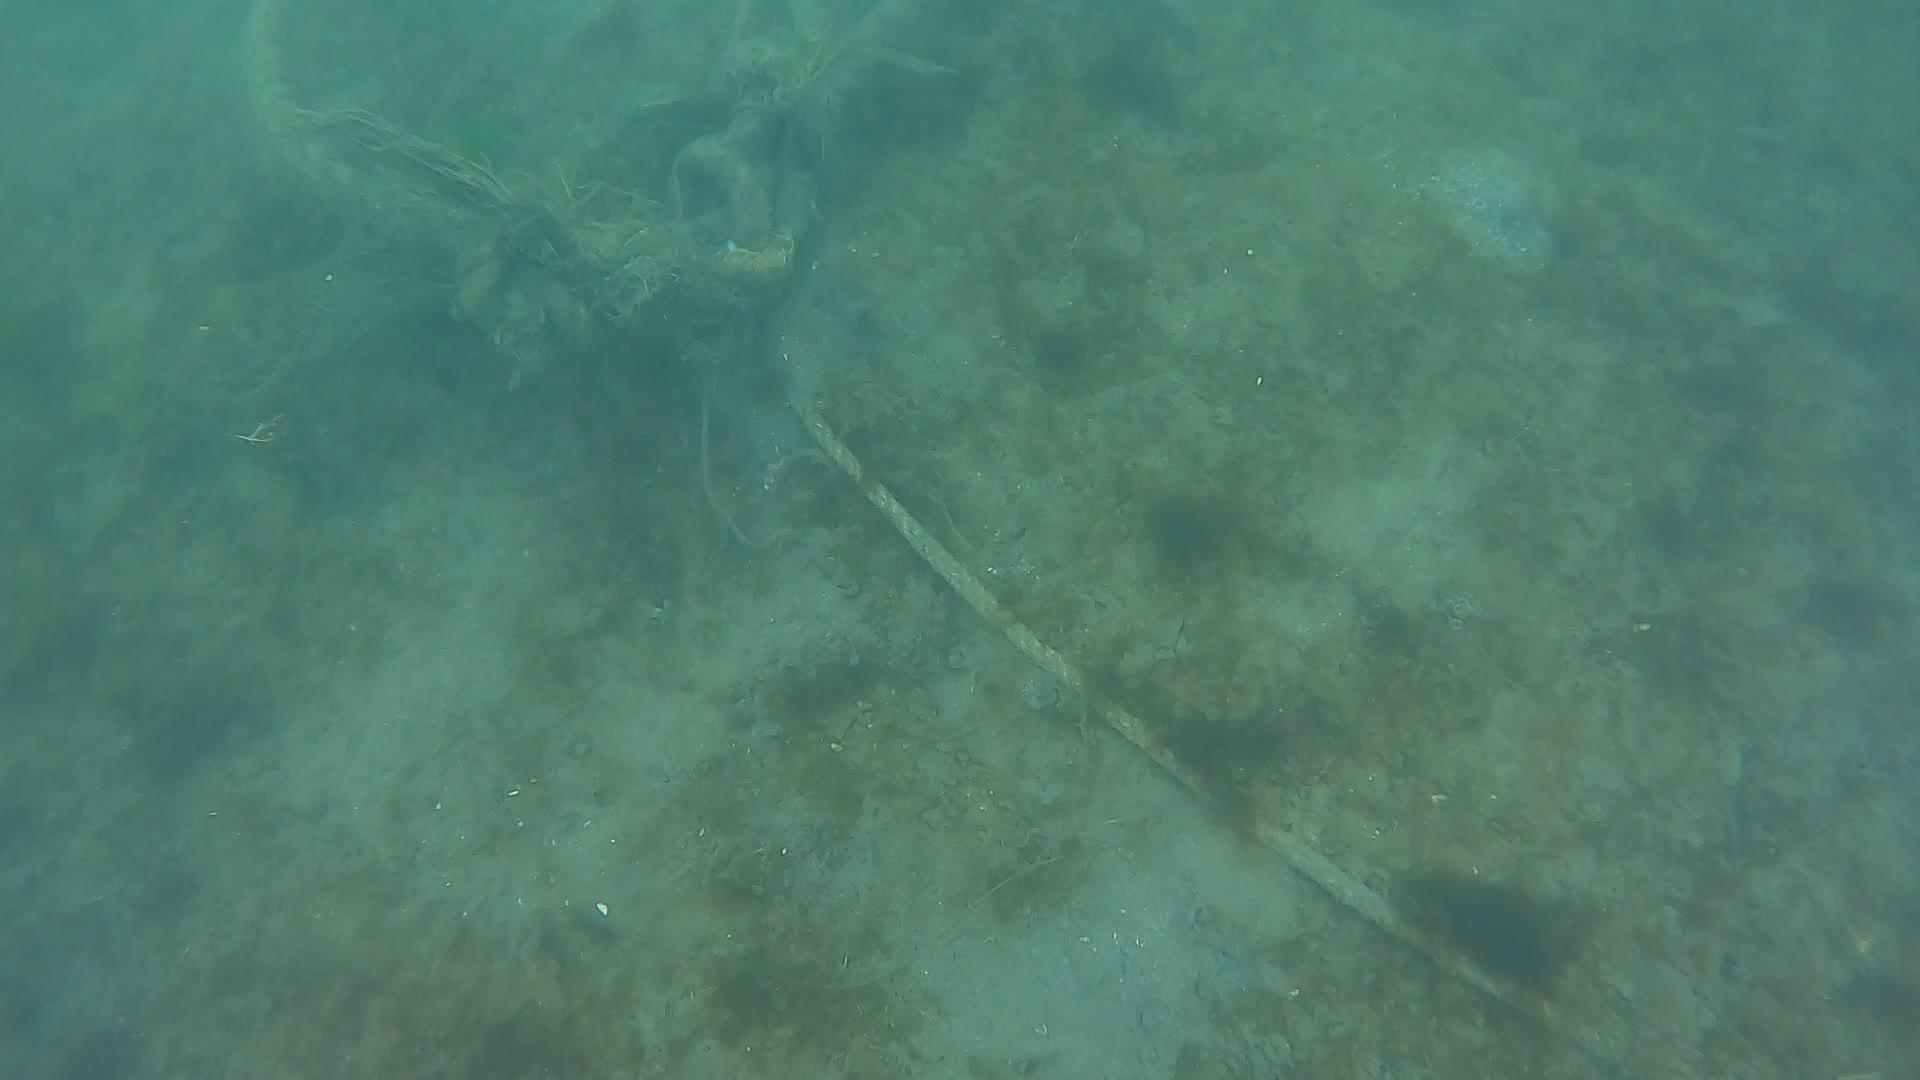bundle of ropes: (225, 0, 1644, 1077)
